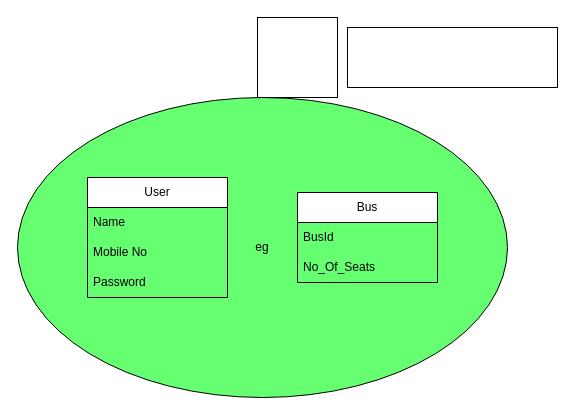
Some shapes in this 575 by 415 pixel diagram are drawn without their labels. The centre of each missing label's shape, as x and y in pixels:
Start Your Class Diagram: the point at 297,57
Use This page to design an DB also should have connections with classes: the point at 452,57
